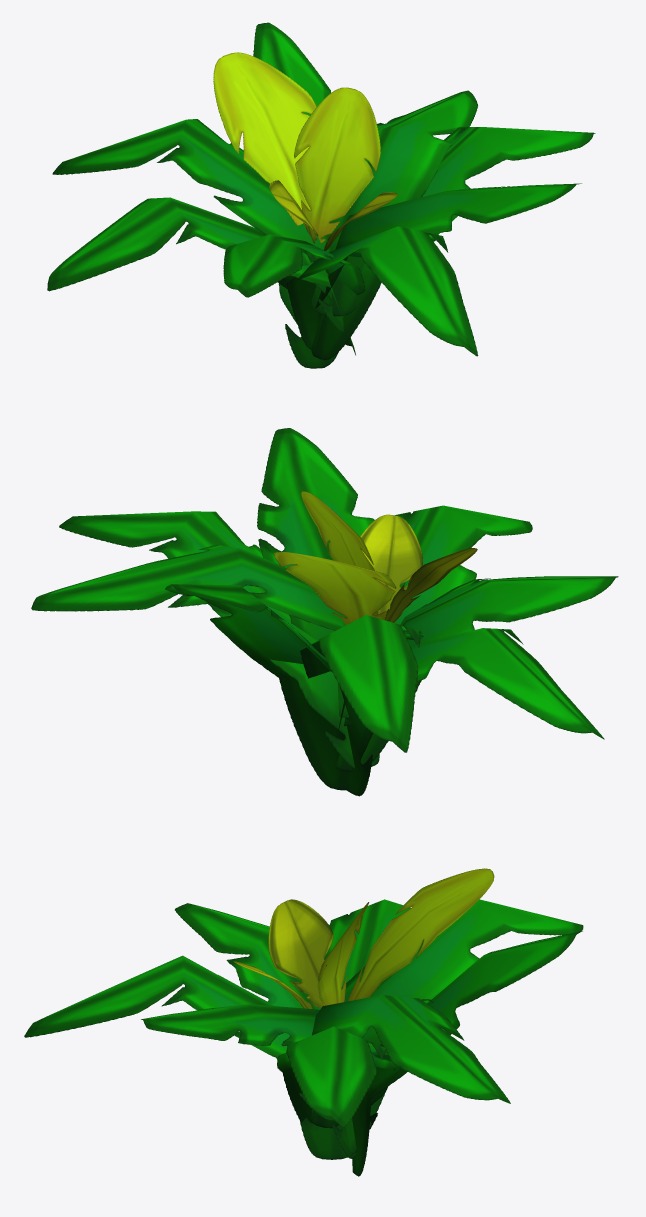
File: 3_Arbusto_Con_Flor.fbx
3 renders of one model, top to bottom at view 1: azimuth 30°, elevation 25°; view 2: azimuth 150°, elevation 25°; view 3: azimuth 270°, elevation 25°, orthographic. The views are drawn at different scales.
Parts seen in each view (by area): view 1: 1_Arbusto.001; view 2: 1_Arbusto.001; view 3: 1_Arbusto.001.
Boxes of the visible parts, x1,y1,x2,y2 form: 1_Arbusto.001: (47, 22, 595, 368); 1_Arbusto.001: (31, 428, 618, 796); 1_Arbusto.001: (24, 868, 583, 1176).
Size of the model in its own units: 141 by 70.96 by 134.
